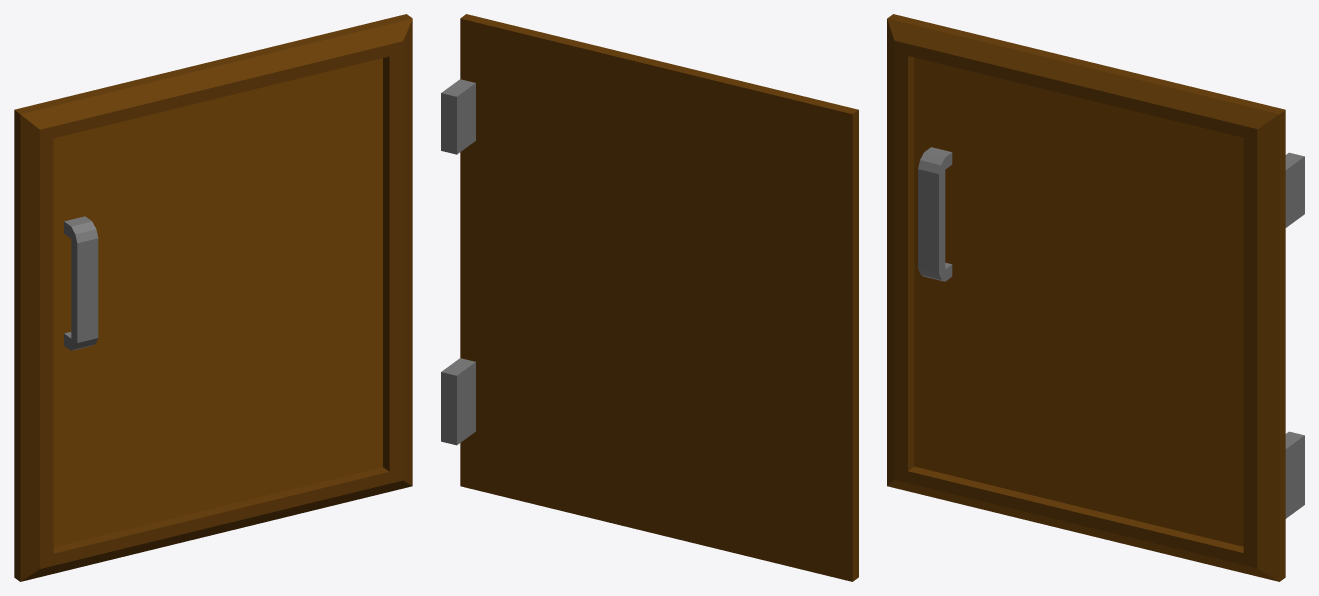
File: _ink_Door.fbx
The picture shows the model from 3 angles, left to right: view 1: azimuth 30°, elevation 25°; view 2: azimuth 150°, elevation 25°; view 3: azimuth 330°, elevation 25°; orthographic projection.
Visible parts, largest first — view 1: Cube.124; view 2: Cube.124; view 3: Cube.124.
Part boxes in pixels (x1,y1,x2,y2): Cube.124: [14, 14, 412, 581]; Cube.124: [441, 14, 858, 581]; Cube.124: [887, 14, 1304, 581].
Size of the model in its own units: 67.3 by 76.64 by 11.37.
